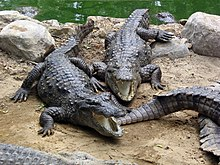Crocodile: (7, 20, 128, 138), (92, 9, 175, 104), (118, 87, 220, 123), (1, 142, 135, 165)
